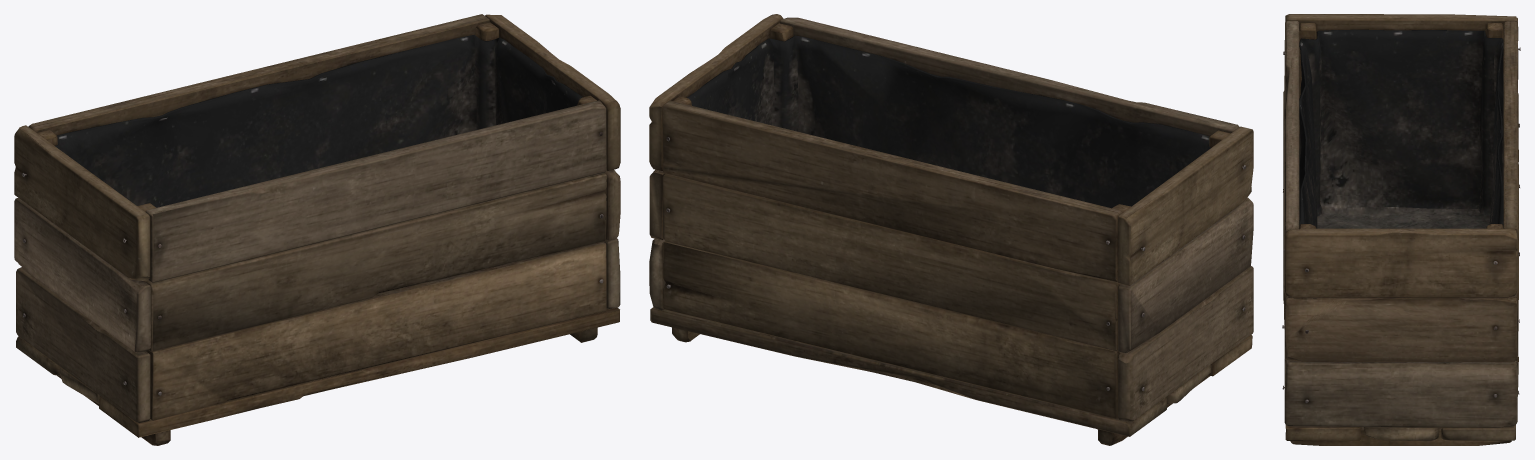
Rendered from planter_box_01.glb.
3 views of the same model, side by side, from view 1: azimuth 30°, elevation 25°; view 2: azimuth 150°, elevation 25°; view 3: azimuth 270°, elevation 25° (orthographic). The views are drawn at different scales.
Visible parts, largest first — view 1: planter_box_01; view 2: planter_box_01; view 3: planter_box_01.
Boxes of the visible parts, x1,y1,x2,y2 form: planter_box_01: [14, 14, 620, 445]; planter_box_01: [649, 14, 1253, 445]; planter_box_01: [1282, 14, 1520, 445].
Size of the model in its own units: 0.9126 by 0.4253 by 0.4137.
Materials: 1 (1 with a texture image).
